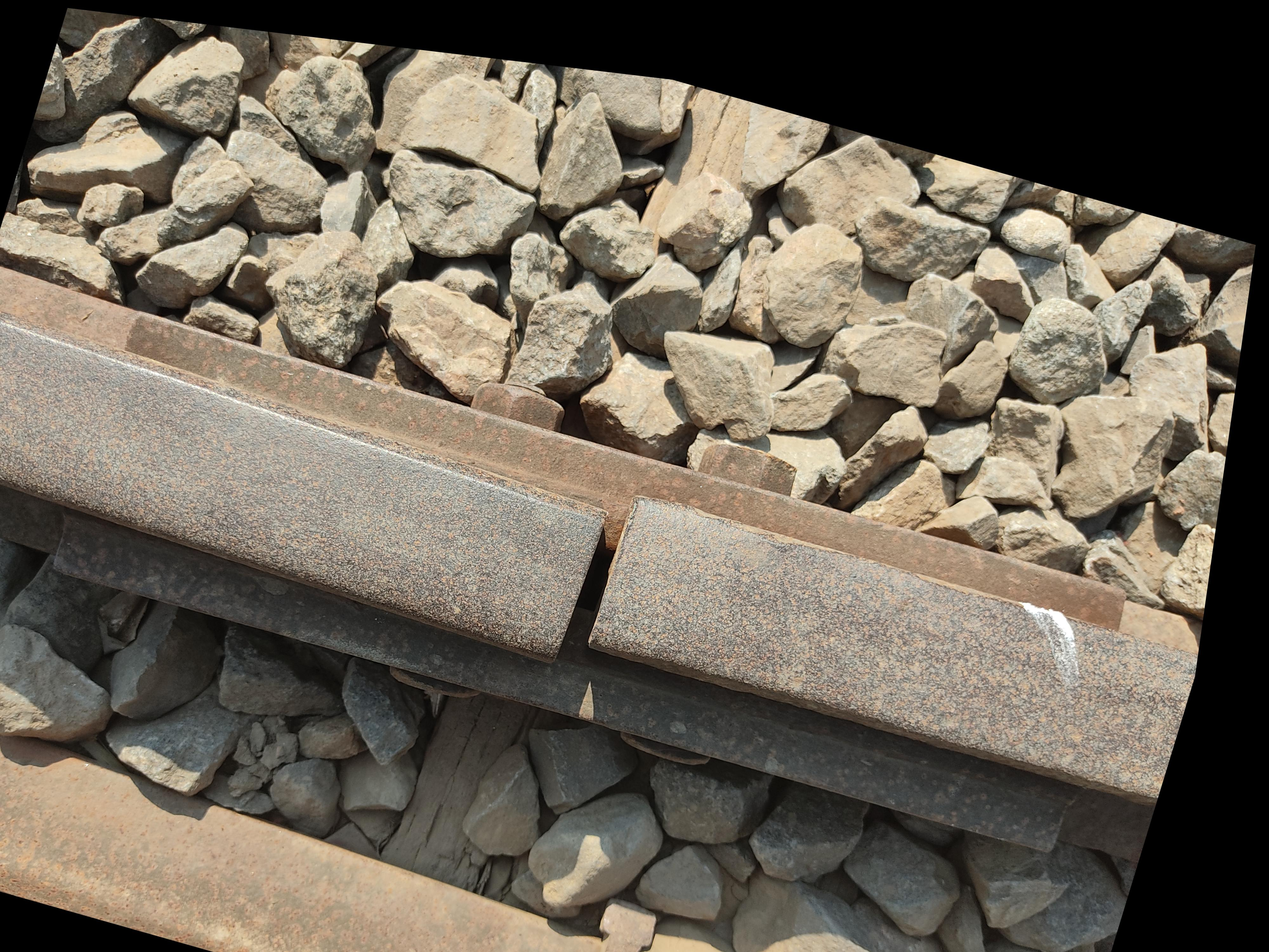person: (552, 350, 851, 620)
